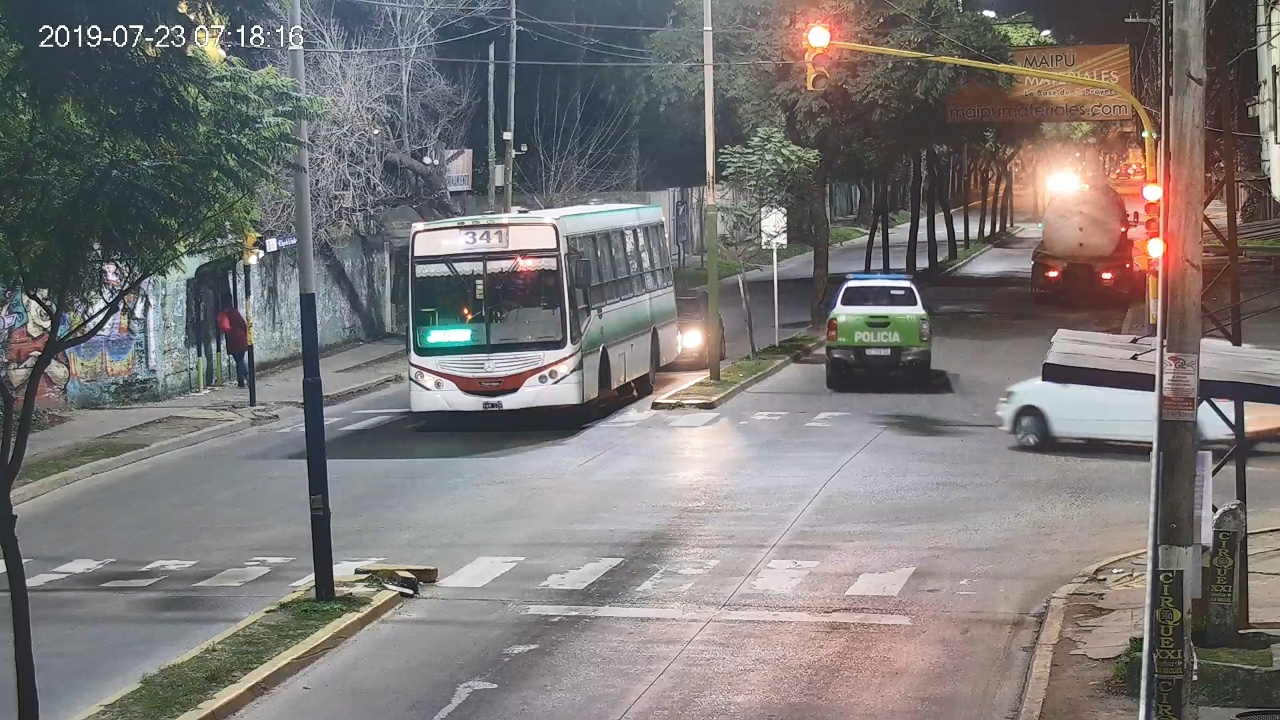front bus: (399, 202, 680, 419)
police car: (826, 273, 932, 389)
traffic light: (804, 25, 831, 91), (1142, 182, 1160, 233)
